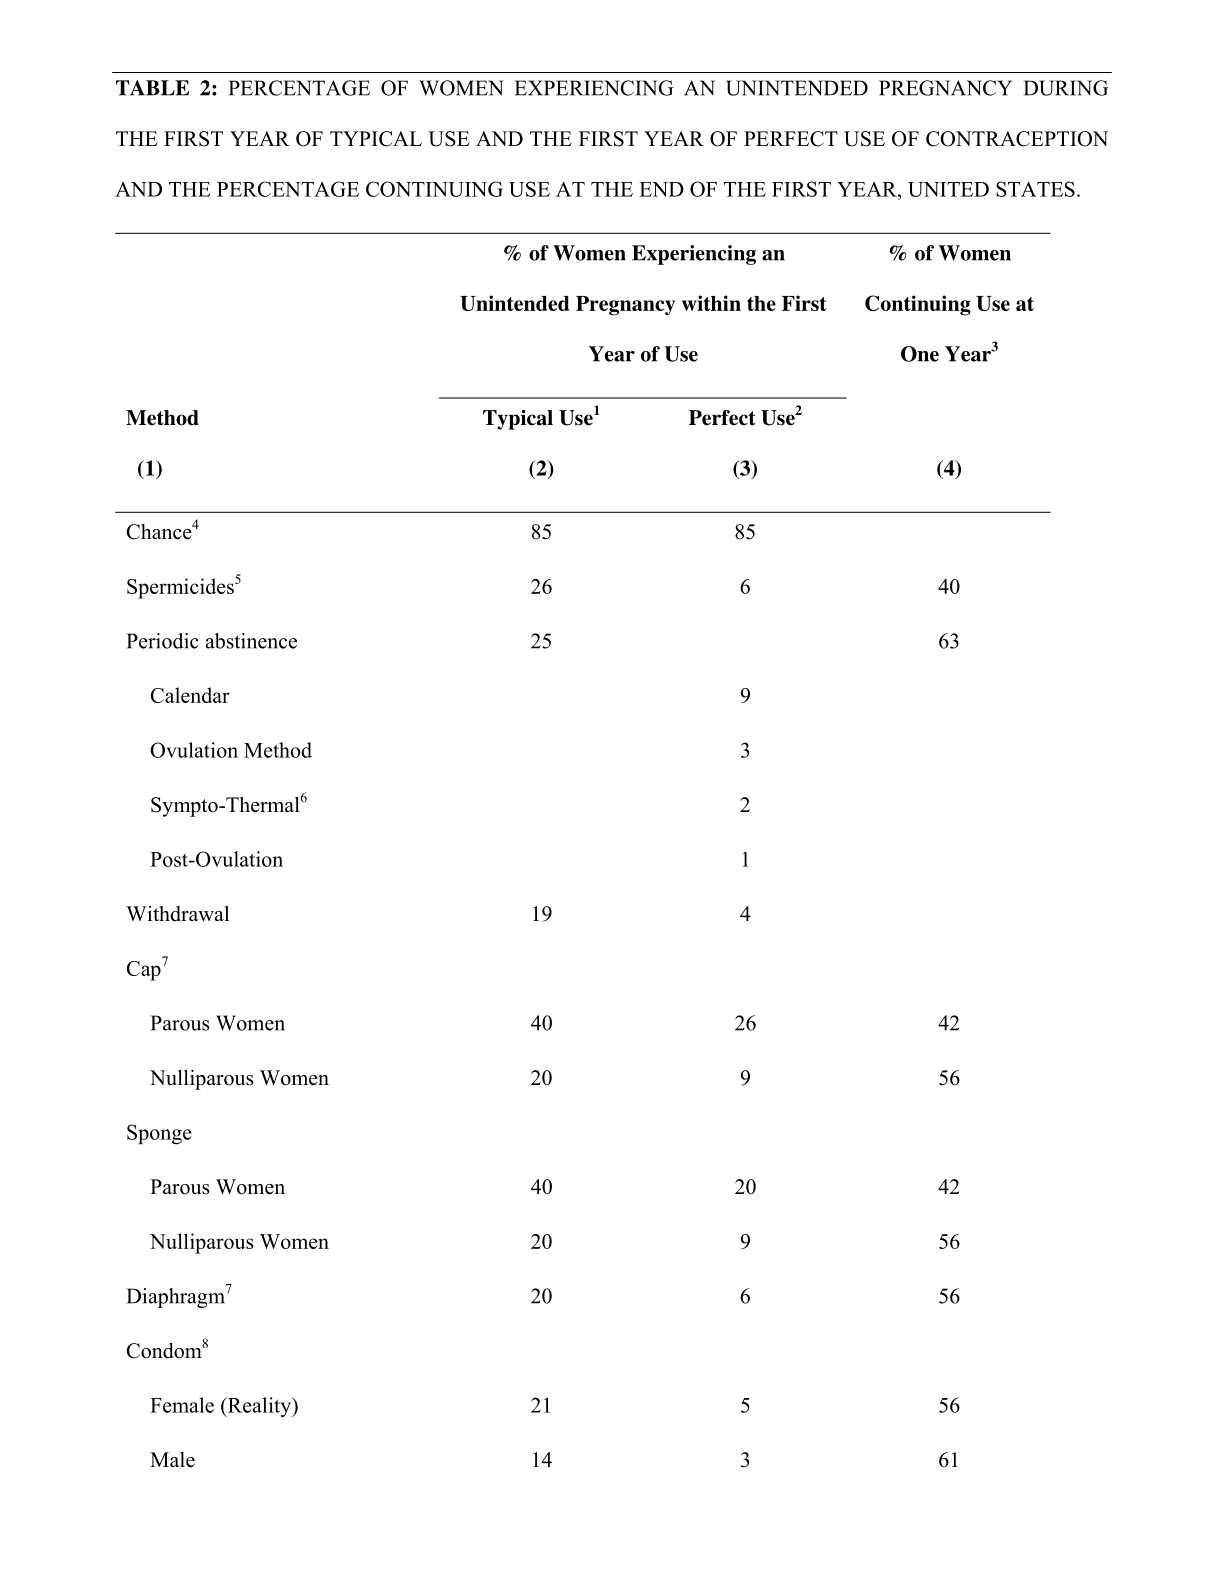partial_lined_merged_cells: (114, 231, 1053, 1473)
